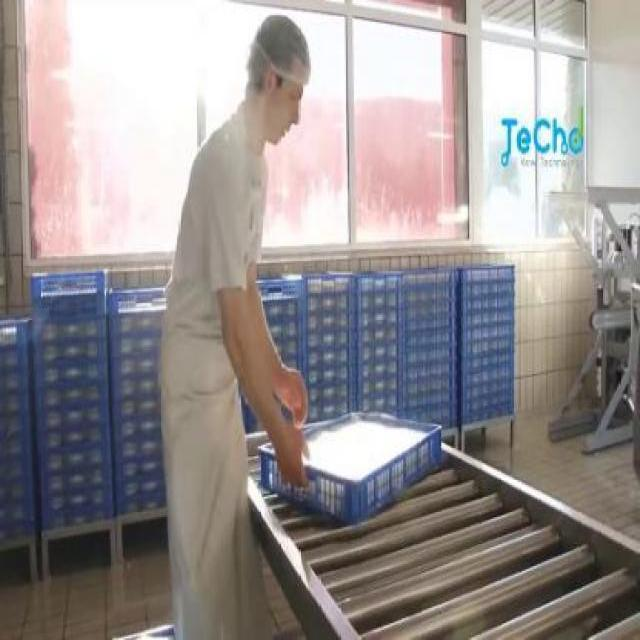bare_hand: (251, 404, 313, 490), (268, 350, 312, 435)
